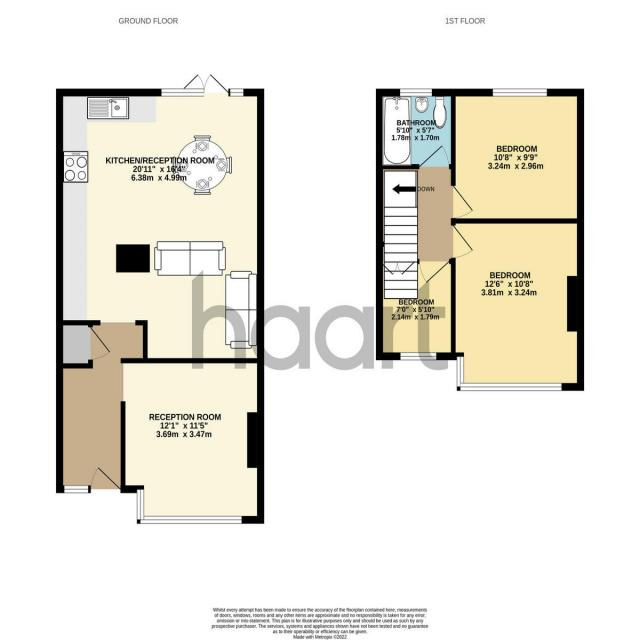DOOR: (451, 223, 475, 260), (450, 184, 474, 220), (90, 466, 122, 493), (418, 259, 450, 285), (418, 144, 450, 170)
ROOM: (56, 74, 265, 366), (120, 358, 264, 525), (451, 217, 585, 392), (451, 88, 584, 223), (376, 258, 456, 361)
WINDOW: (136, 489, 242, 525), (456, 356, 562, 391), (492, 88, 548, 97), (400, 351, 437, 361), (399, 88, 433, 97), (63, 485, 89, 494), (229, 88, 244, 97)
